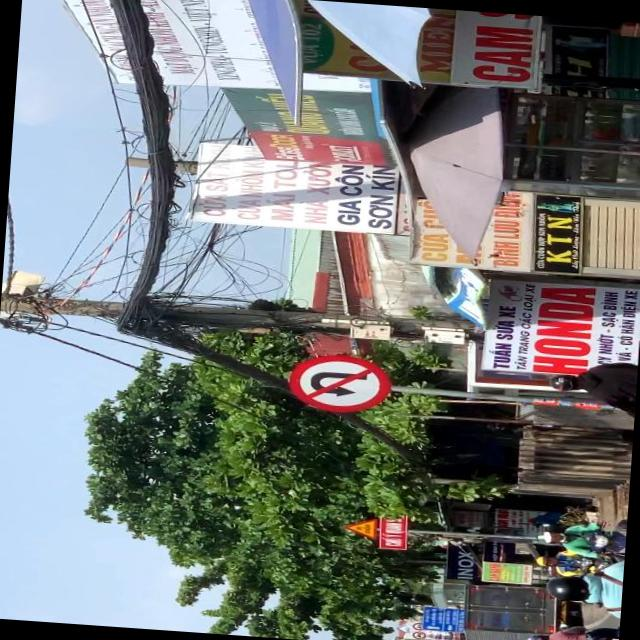P-124a1: (284, 350, 392, 412)
